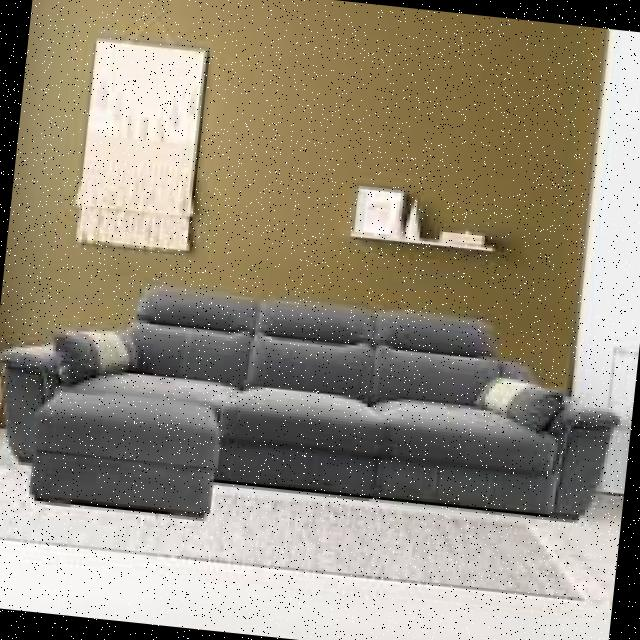Sofa: (0, 246, 640, 570)
